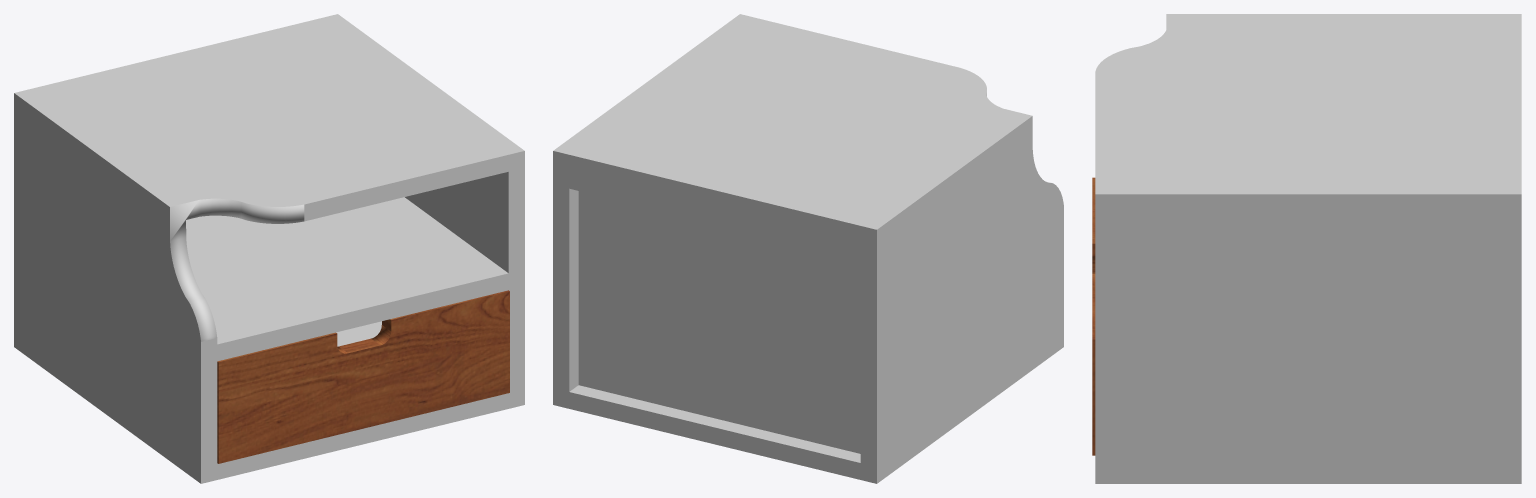
File: sovia.glb
3 views of the same model, side by side, from view 1: azimuth 30°, elevation 25°; view 2: azimuth 150°, elevation 25°; view 3: azimuth 270°, elevation 25° (orthographic). The views are drawn at different scales.
Parts seen in each view (by area): view 1: G-__558399, G-__558426, G-__558417; view 2: G-__558399; view 3: G-__558399, G-__558426.
Boxes of the visible parts, box(x1,y1,x2,y2) form: G-__558399: box(14, 14, 524, 483); G-__558426: box(217, 290, 509, 463); G-__558417: box(336, 321, 381, 346); G-__558399: box(553, 14, 1063, 483); G-__558399: box(1095, 14, 1521, 483); G-__558426: box(1092, 177, 1095, 455).
Size of the model in its own units: 0.3 by 0.225 by 0.302.
Materials: 2 (1 with a texture image).
